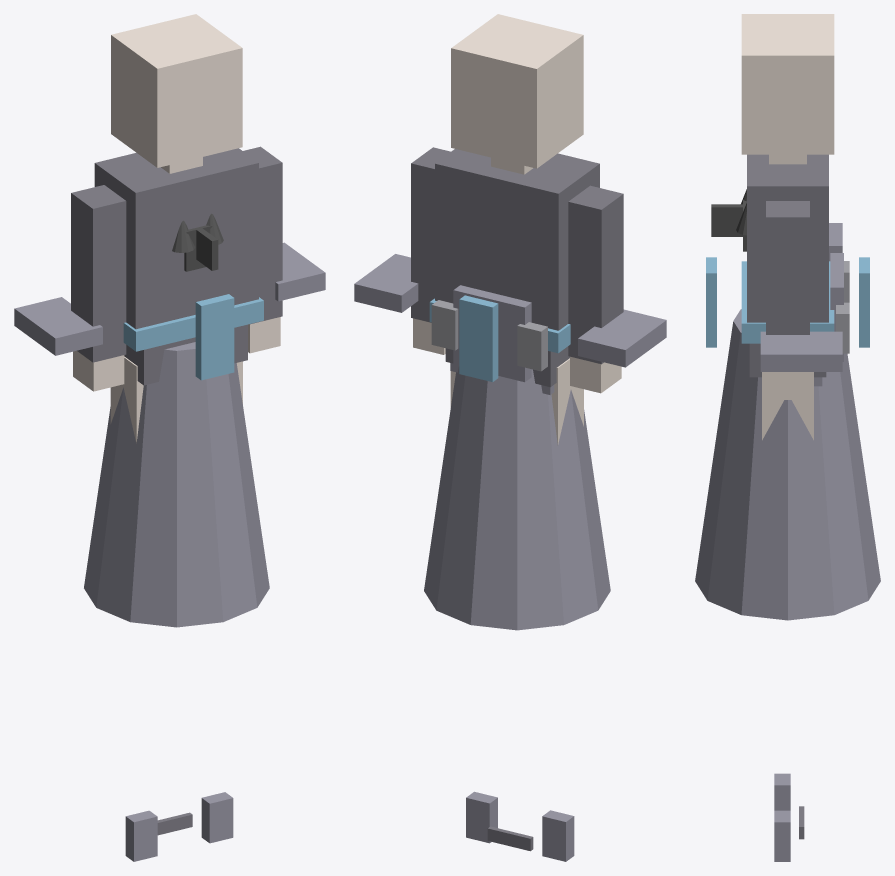
The model's file is hades.glb.
3 renders of one model, left to right at view 1: azimuth 30°, elevation 25°; view 2: azimuth 150°, elevation 25°; view 3: azimuth 270°, elevation 25°, orthographic.
Parts seen in each view (by area): view 1: outfit_robe_0, torso, head, arm_L_upper, arm_R_upper, outfit_armor_2, outfit_armor_4, outfit_belt_0, prop_bident, outfit_armor_1, hips, arm_L_hand (+4 smaller); view 2: outfit_robe_0, torso, head, arm_L_upper, arm_R_upper, outfit_armor_2, outfit_armor_3, outfit_robe_1, outfit_armor_1, outfit_sandals_0, outfit_belt_2, arm_L_hand (+7 smaller); view 3: outfit_robe_0, head, torso, arm_R_upper, outfit_armor_1, prop_bident, leg_R_shin, outfit_belt_0, arm_R_hand, outfit_armor_3, outfit_armor_4, outfit_sandals_1 (+6 smaller).
Part boxes in pixels (x1,y1,x2,y2): outfit_robe_0: (84, 342, 269, 627); torso: (94, 148, 258, 329); head: (111, 14, 242, 167); arm_L_upper: (71, 185, 126, 362); arm_R_upper: (243, 146, 282, 324); outfit_armor_2: (14, 297, 102, 355); outfit_armor_4: (195, 294, 234, 380); outfit_belt_0: (123, 297, 263, 351); prop_bident: (172, 213, 223, 271); outfit_armor_1: (275, 242, 325, 301); hips: (124, 324, 247, 385); arm_L_hand: (73, 351, 124, 391); outfit_robe_0: (424, 366, 610, 630); torso: (435, 149, 599, 330); head: (451, 14, 583, 168); arm_L_upper: (568, 185, 623, 364); arm_R_upper: (411, 147, 450, 322); outfit_armor_2: (578, 309, 666, 367); outfit_armor_3: (459, 295, 498, 382); outfit_robe_1: (453, 285, 531, 382); outfit_armor_1: (354, 254, 418, 312); outfit_sandals_0: (542, 810, 574, 861); outfit_belt_2: (517, 322, 547, 371); arm_L_hand: (570, 356, 621, 393); outfit_robe_0: (695, 309, 880, 620); head: (741, 14, 834, 154); torso: (747, 154, 828, 322); arm_R_upper: (766, 201, 809, 334); outfit_armor_1: (760, 331, 842, 371); prop_bident: (711, 189, 746, 251); leg_R_shin: (762, 372, 813, 440); outfit_belt_0: (741, 261, 834, 343); arm_R_hand: (767, 372, 808, 399); outfit_armor_3: (859, 257, 869, 347); outfit_armor_4: (706, 257, 716, 347); outfit_sandals_1: (774, 810, 790, 861).
Size of the model in its own units: 1.14 by 3.24 by 0.68.
